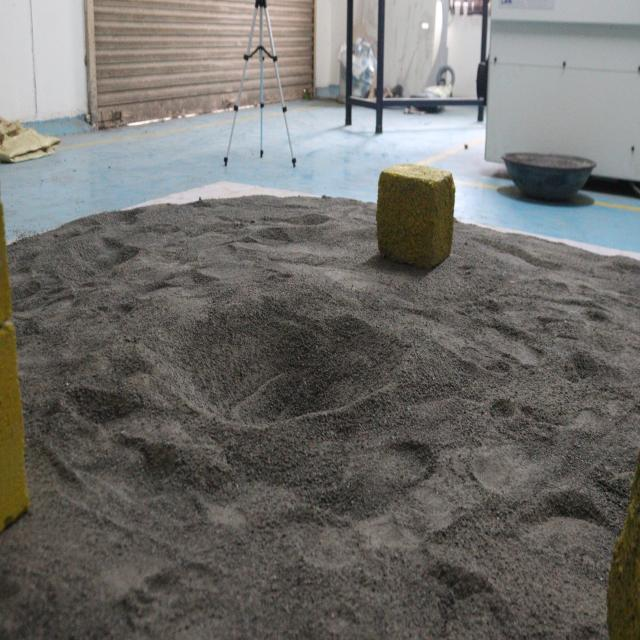box: (366, 162, 458, 280)
crater: (141, 269, 406, 443)
